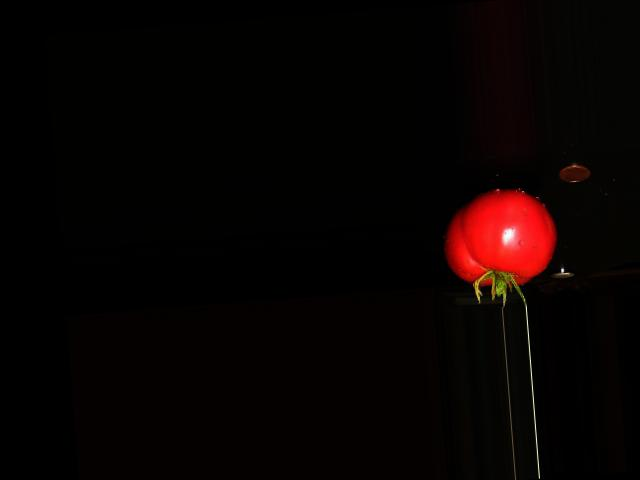tomato: (438, 184, 559, 291)
